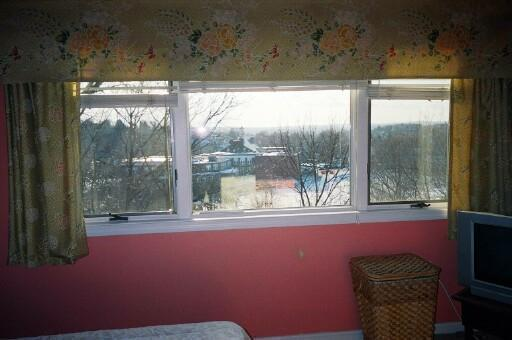Ventana: (23, 20, 455, 219)
